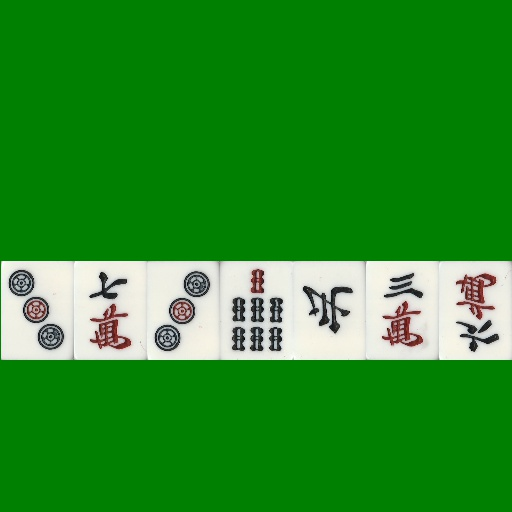3m: (366, 261, 439, 360)
3p: (1, 261, 74, 360), (147, 261, 220, 360)
6m: (439, 261, 512, 360)
7m: (74, 261, 147, 360)
7s: (220, 261, 293, 360)
north: (293, 261, 366, 360)
